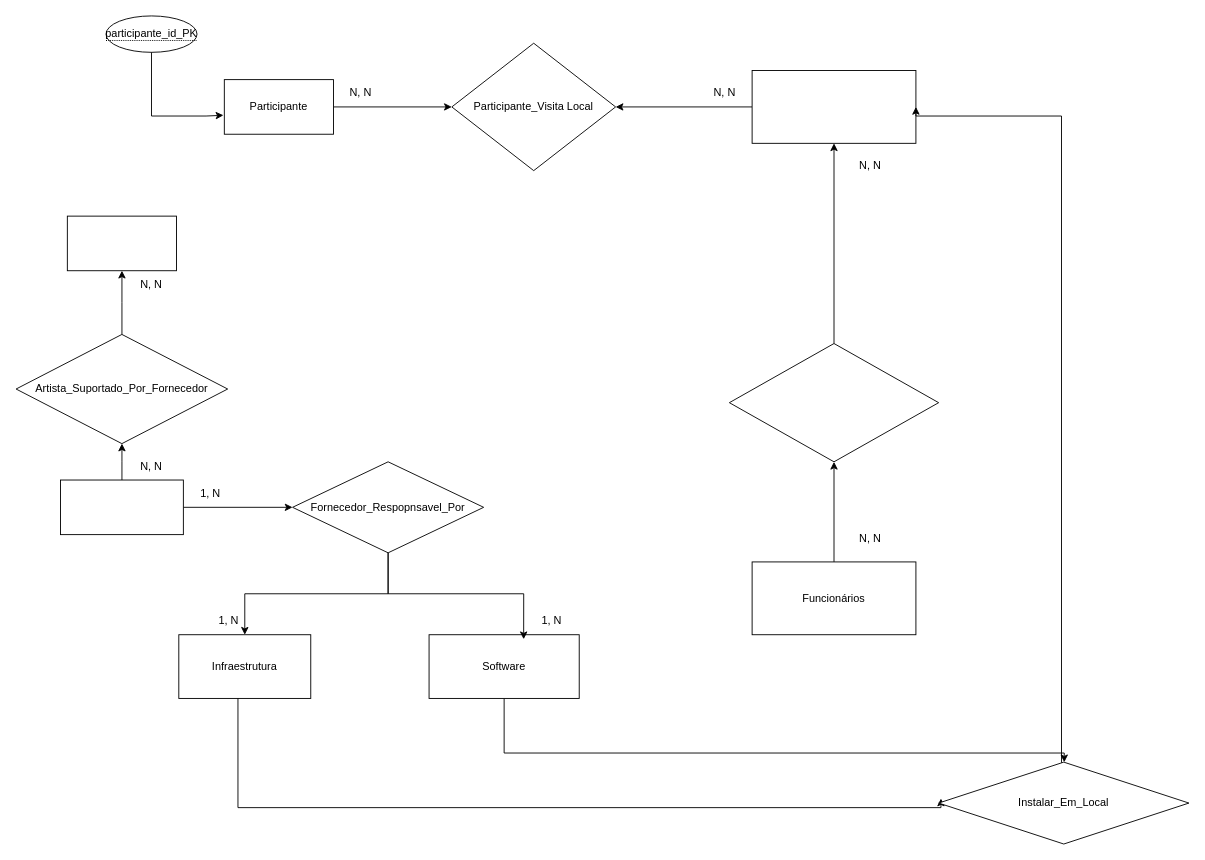
Image size: 1205x860. Some labels were removed from this diagram. Each missing label, with the centre of its shape:
"Artistas" belongs at point (121, 243).
"Fornecedores" belongs at point (121, 507).
"Funcionario_Designado_Para_Local" belongs at point (833, 402).
"Locais" belongs at point (833, 106).
